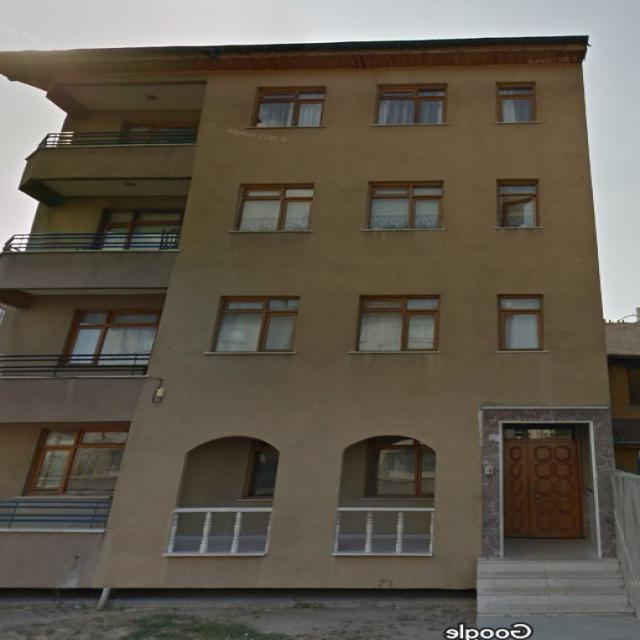Building: (0, 34, 629, 615)
